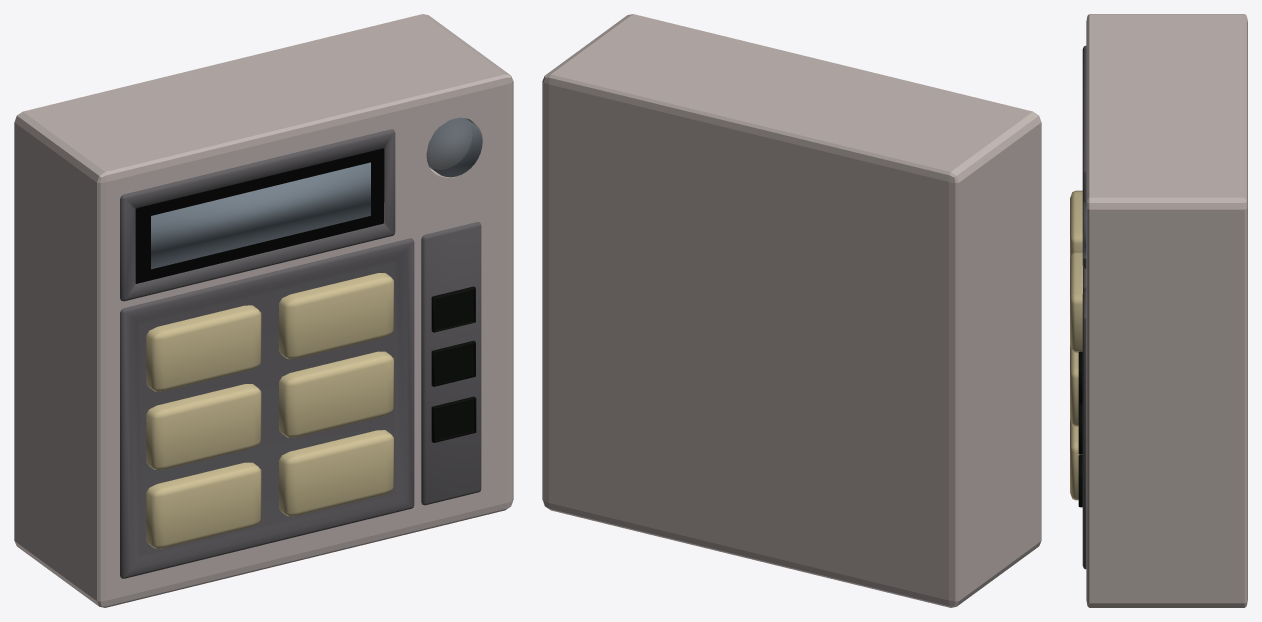
File: whos-on-first.glb
3 renders of one model, left to right at view 1: azimuth 30°, elevation 25°; view 2: azimuth 150°, elevation 25°; view 3: azimuth 270°, elevation 25°, orthographic. The views are drawn at different scales.
Visible parts, largest first — view 1: WhosOnFirstModule, Input.Frame, LCD.Screen, Steps, LCD.Frame, LBot, LTop, LMid, RBot, RMid, RTop, LCD.Frame.Black (+4 smaller); view 2: WhosOnFirstModule; view 3: WhosOnFirstModule, Steps, RTop, LCD.Frame, LTop, RBot, RMid, Step3.Case, Step1.Case, Step2.Case.
Part boxes in pixels (<box>): WhosOnFirstModule: <box>14,14,513,607</box>; Input.Frame: <box>120,238,414,578</box>; LCD.Screen: <box>151,162,370,269</box>; Steps: <box>421,222,481,505</box>; LCD.Frame: <box>120,129,395,301</box>; LBot: <box>146,462,261,548</box>; LTop: <box>146,305,261,391</box>; LMid: <box>146,384,261,469</box>; RBot: <box>279,430,393,516</box>; RMid: <box>279,351,393,437</box>; RTop: <box>279,273,393,359</box>; LCD.Frame.Black: <box>135,148,384,283</box>; WhosOnFirstModule: <box>542,14,1041,607</box>; WhosOnFirstModule: <box>1086,14,1247,607</box>; Steps: <box>1082,291,1086,569</box>; RTop: <box>1070,251,1082,352</box>; LCD.Frame: <box>1082,45,1086,268</box>; LTop: <box>1070,190,1082,258</box>; RBot: <box>1070,419,1082,500</box>; RMid: <box>1070,345,1078,426</box>; Step3.Case: <box>1078,351,1082,403</box>; Step1.Case: <box>1078,455,1082,507</box>; Step2.Case: <box>1078,403,1082,454</box>.
Size of the model in its own units: 0.1761 by 0.1761 by 0.0693.
